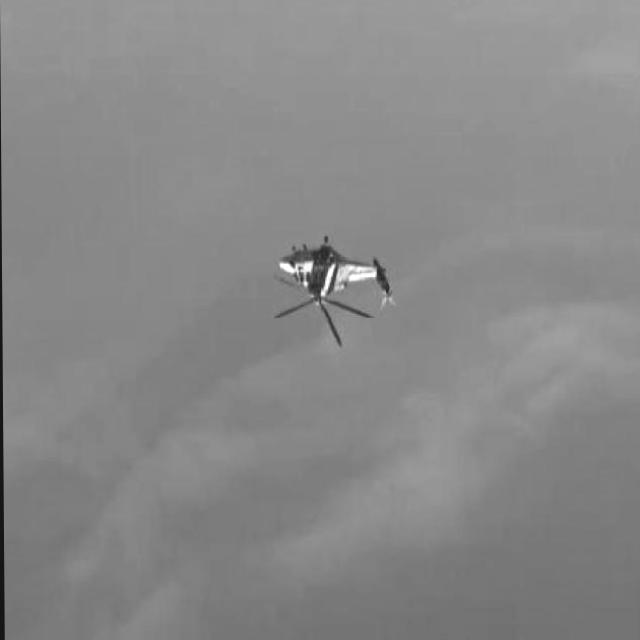helikopter: (271, 238, 394, 350)
